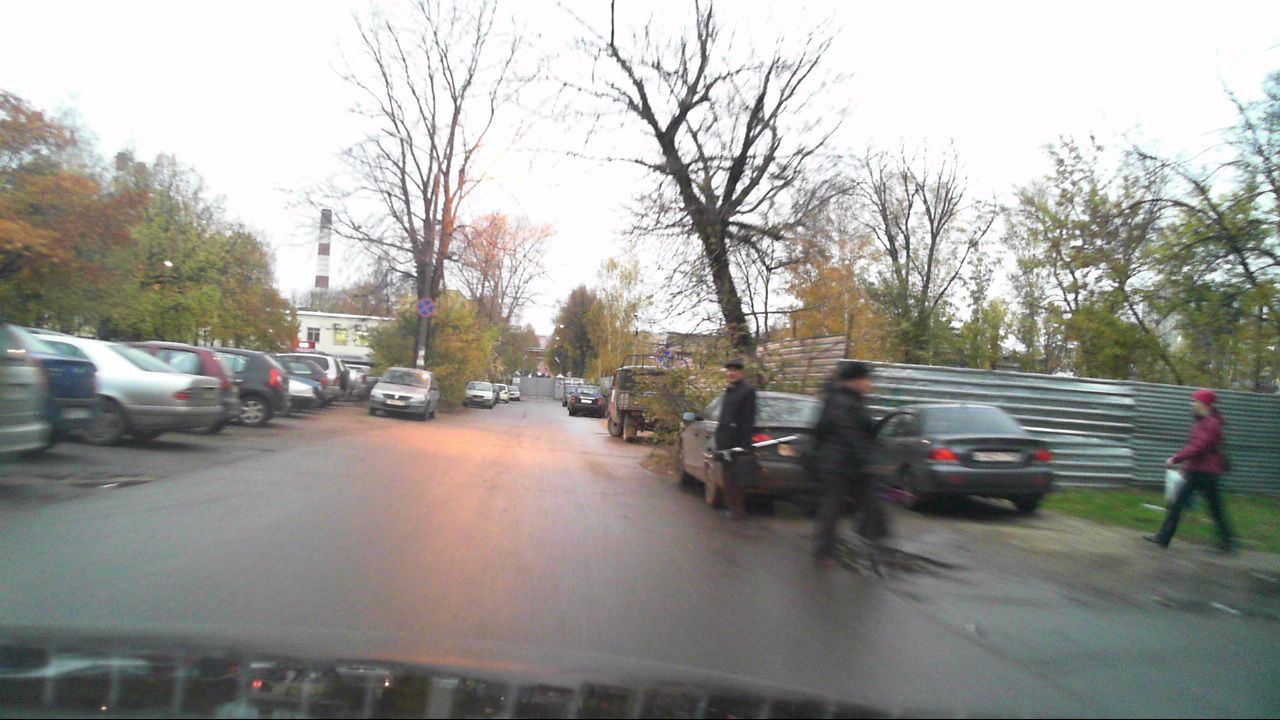No Parking: (414, 295, 437, 319)
